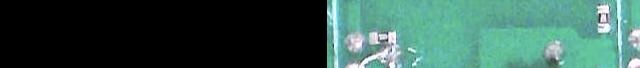chip-resistor: (368, 31, 396, 44), (597, 4, 609, 32)
